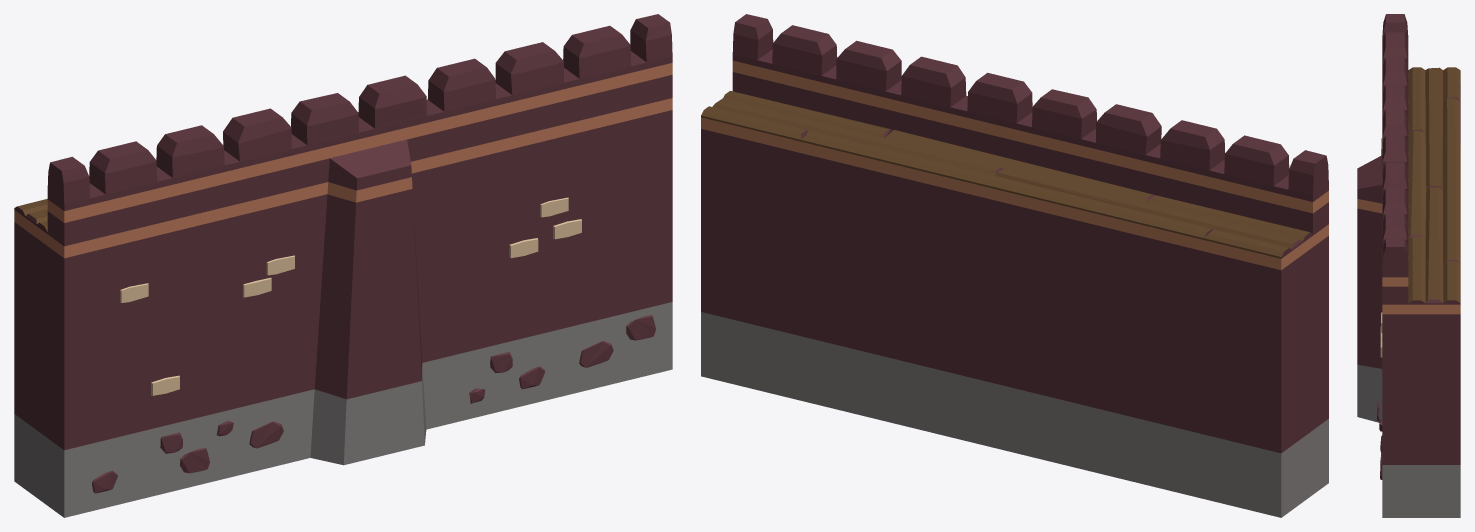
The model's file is SM_Wall_Fortified_Empire.fbx.
3 renders of one model, left to right at view 1: azimuth 30°, elevation 25°; view 2: azimuth 150°, elevation 25°; view 3: azimuth 270°, elevation 25°, orthographic. The views are drawn at different scales.
Visible parts, largest first — view 1: SM_Wall_Fortified_Empire; view 2: SM_Wall_Fortified_Empire; view 3: SM_Wall_Fortified_Empire.
Part boxes in pixels (left/top/right/bottom): SM_Wall_Fortified_Empire: left=14, top=14, right=672, bottom=517; SM_Wall_Fortified_Empire: left=701, top=14, right=1328, bottom=517; SM_Wall_Fortified_Empire: left=1357, top=14, right=1460, bottom=517.
Bounding box in the file's own units: 16 × 8.67 × 3.
